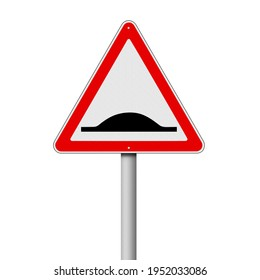speed-breaker: (77, 39, 184, 142)
